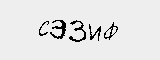З: (67, 19, 88, 43)
И: (88, 25, 101, 42)
С: (38, 19, 49, 36)
Ф: (105, 21, 117, 41)
Э: (49, 19, 67, 41)
